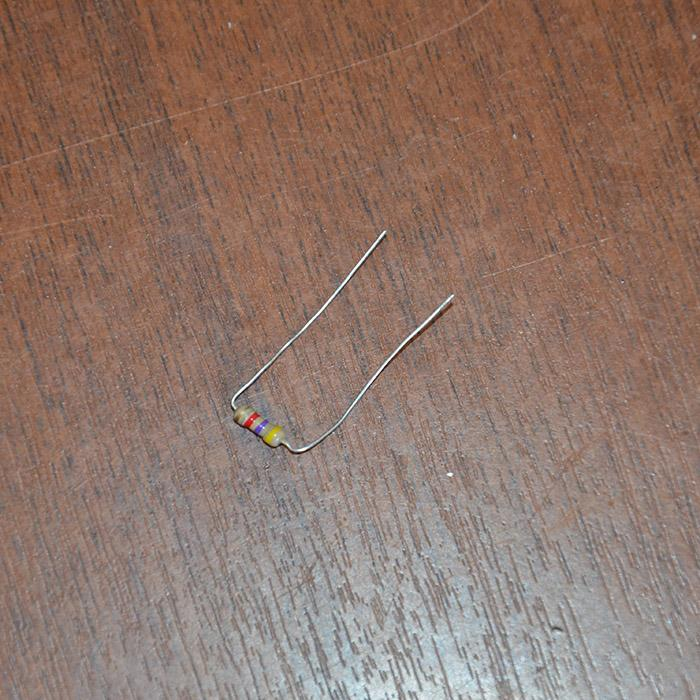resistor: (234, 404, 286, 448)
